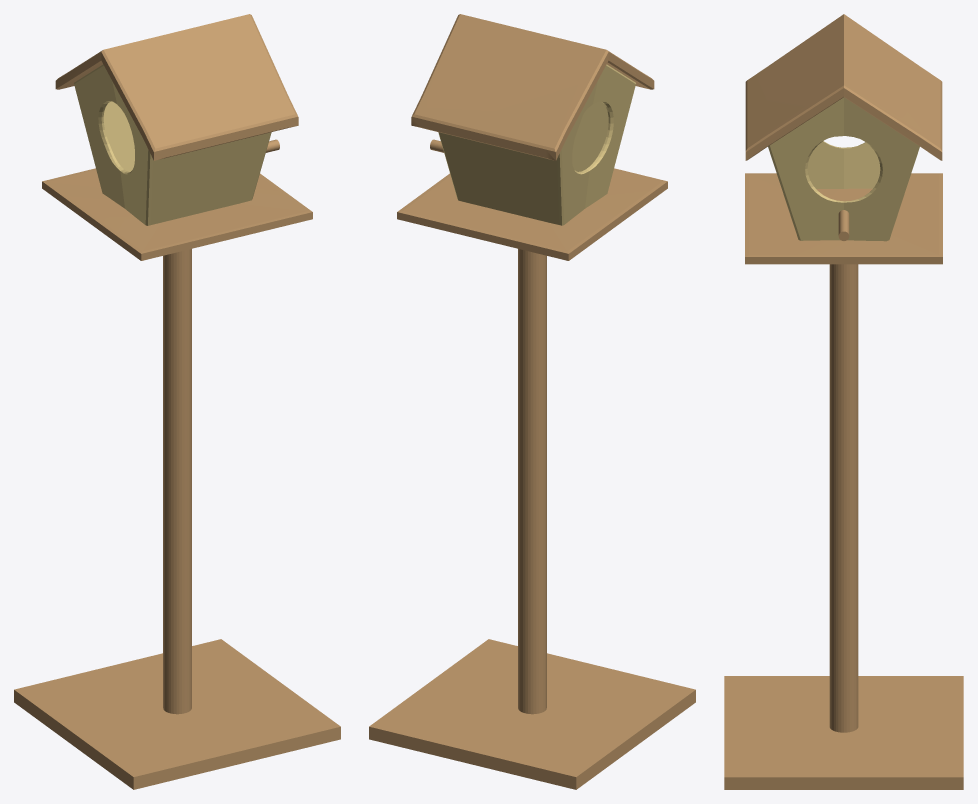
File: BirdHouse.fbx
The picture shows the model from 3 angles, left to right: view 1: azimuth 30°, elevation 25°; view 2: azimuth 150°, elevation 25°; view 3: azimuth 270°, elevation 25°; orthographic projection.
Visible parts, largest first — view 1: Cylinder; view 2: Cylinder; view 3: Cylinder.
Boxes of the visible parts, x1,y1,x2,y2 form: Cylinder: (14, 14, 340, 789); Cylinder: (369, 14, 695, 789); Cylinder: (724, 14, 963, 789).
Bounding box in the file's own units: 169 × 536 × 169.
